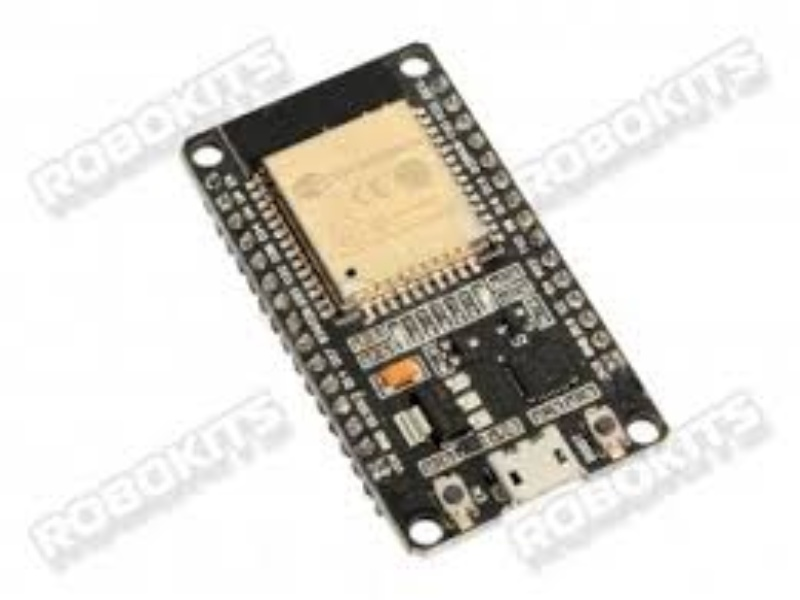esp32: (179, 34, 694, 537)
